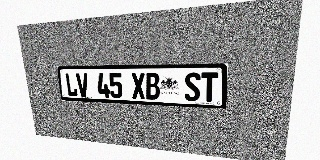4: (96, 73, 110, 98)
5: (109, 73, 123, 98)
B: (145, 73, 160, 100)
L: (65, 73, 78, 97)
S: (184, 72, 201, 102)
T: (201, 72, 218, 102)
V: (76, 73, 89, 97)
X: (131, 73, 146, 99)
